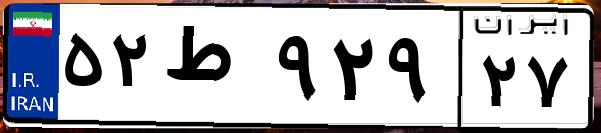2: (330, 28, 385, 110), (475, 38, 525, 113), (110, 28, 158, 98)
5: (57, 26, 110, 100)
7: (525, 38, 570, 115)
9: (270, 28, 330, 110), (385, 28, 445, 110)
ط: (158, 20, 270, 120)
